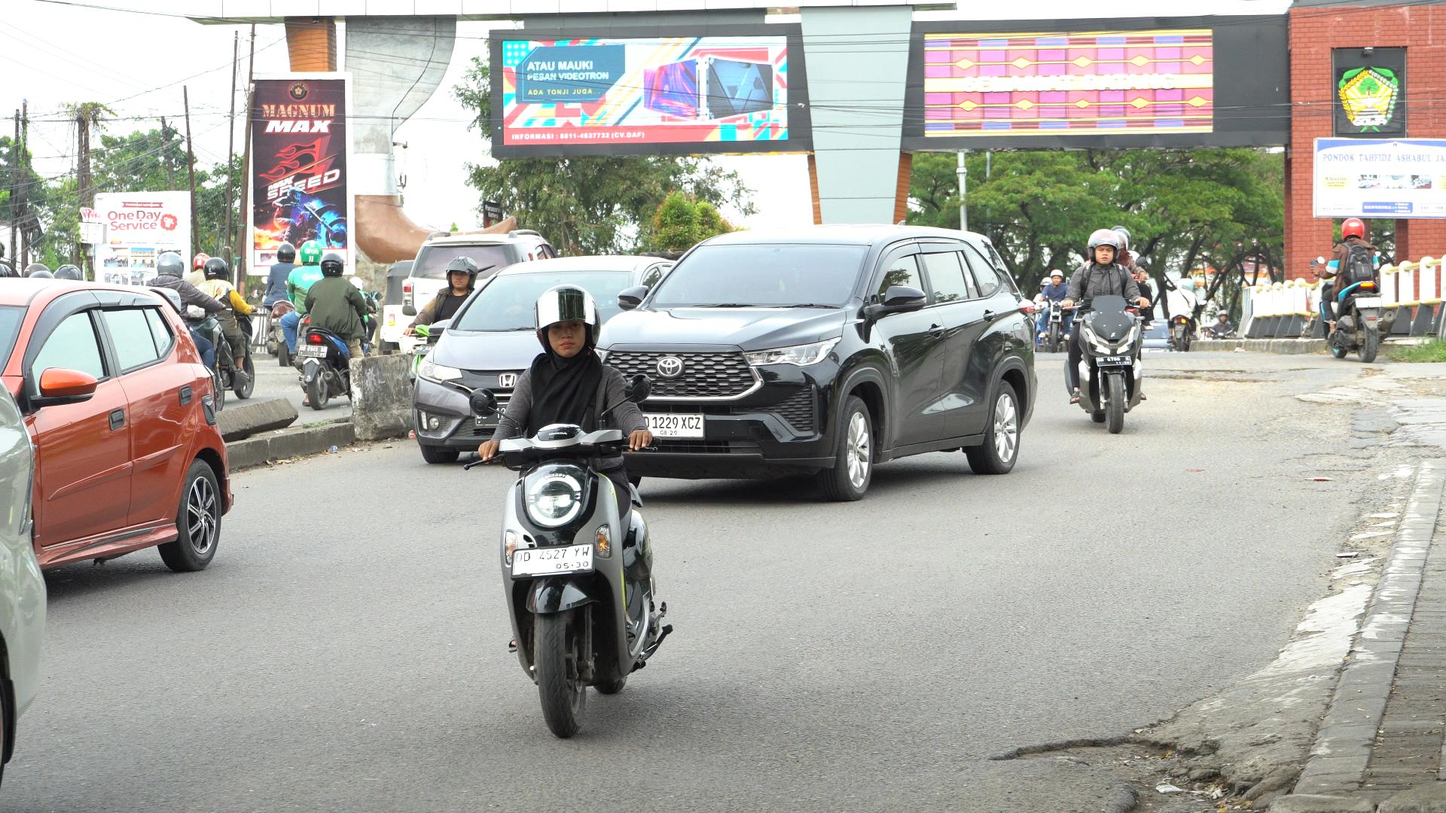number-plate: (506, 539, 592, 576), (1095, 351, 1132, 366)
